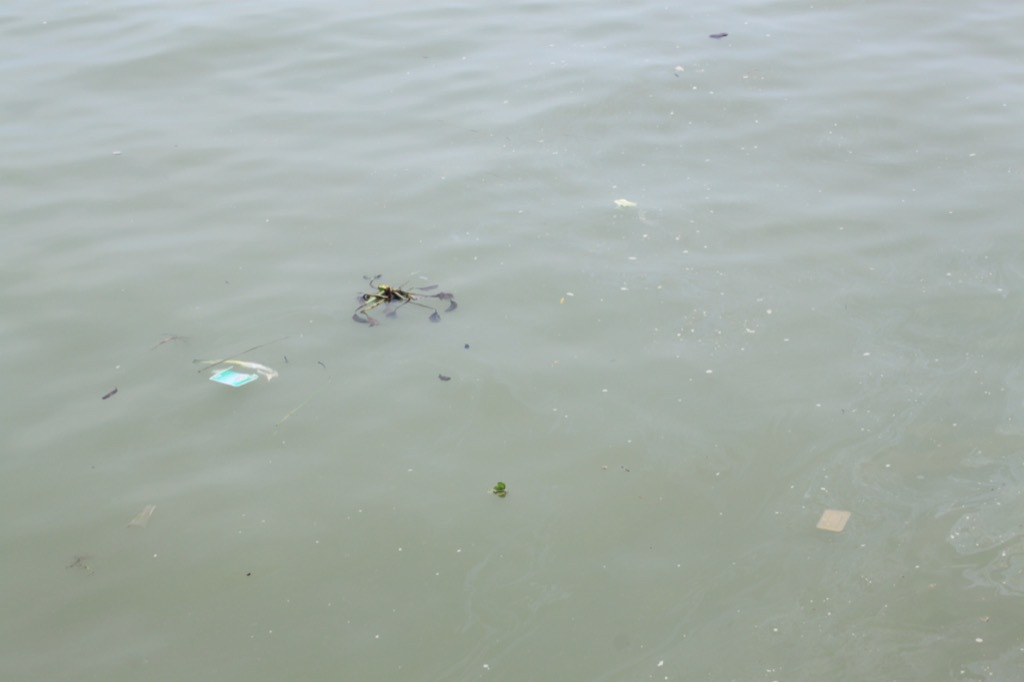organic: (337, 262, 474, 334), (275, 351, 339, 428), (58, 546, 104, 581), (142, 328, 195, 357), (481, 476, 514, 507), (99, 382, 125, 405), (705, 28, 733, 44), (435, 367, 453, 390), (240, 567, 258, 583), (459, 339, 474, 354)
plastic: (110, 493, 174, 542), (198, 355, 266, 397), (810, 495, 858, 545), (601, 183, 649, 228)
